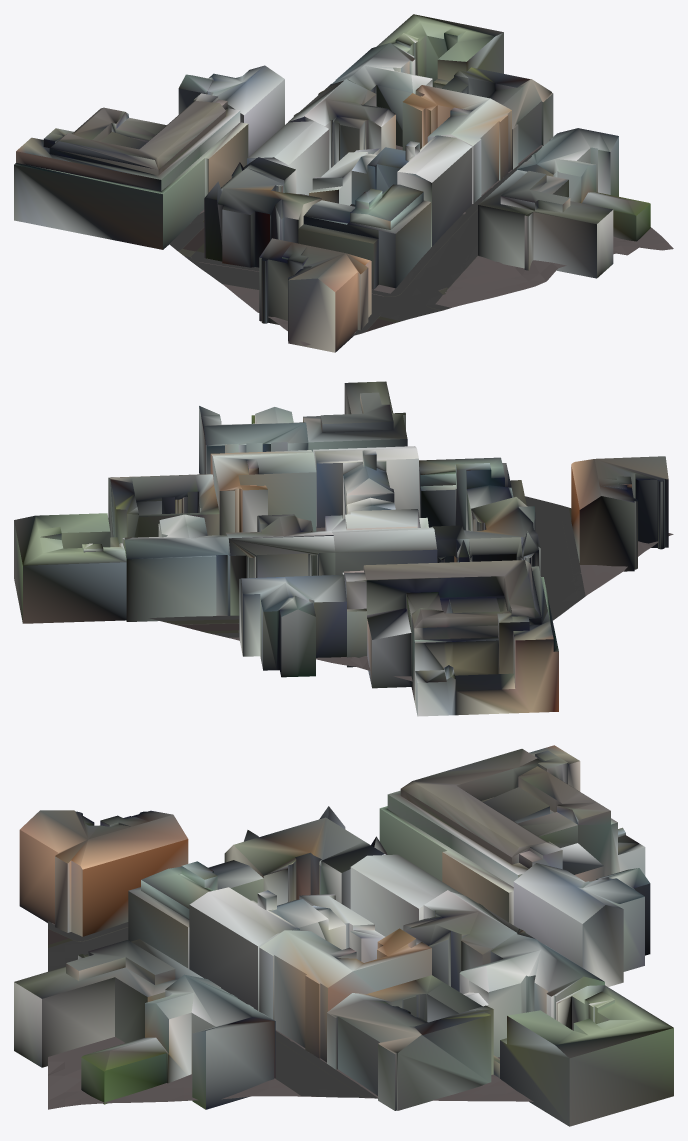
The picture shows the model from 3 angles, top to bottom: view 1: azimuth 30°, elevation 25°; view 2: azimuth 150°, elevation 25°; view 3: azimuth 270°, elevation 25°; orthographic projection. The views are drawn at different scales.
Parts seen in each view (by area): view 1: c_m08_p02; view 2: c_m08_p02; view 3: c_m08_p02.
Boxes of the visible parts, box(x1,y1,x2,y2) form: c_m08_p02: box(14, 14, 673, 352); c_m08_p02: box(14, 381, 673, 716); c_m08_p02: box(14, 745, 673, 1126).
Size of the model in its own units: 172 by 31.27 by 156.
